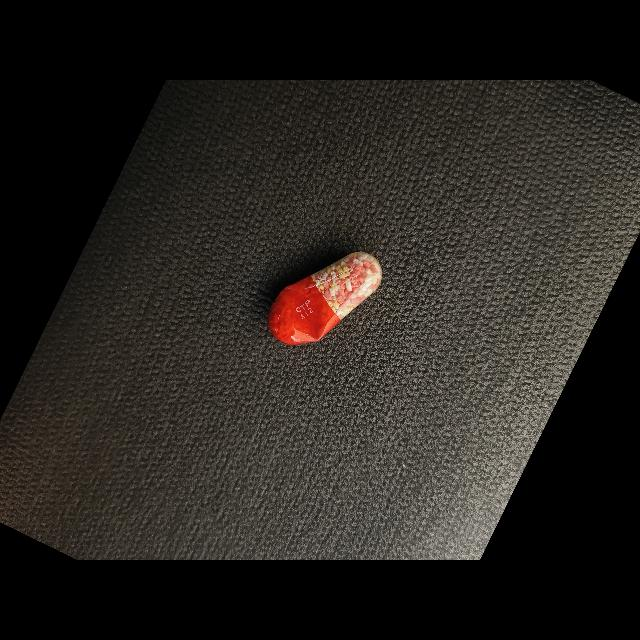Defective Capsule: (268, 252, 382, 345)
